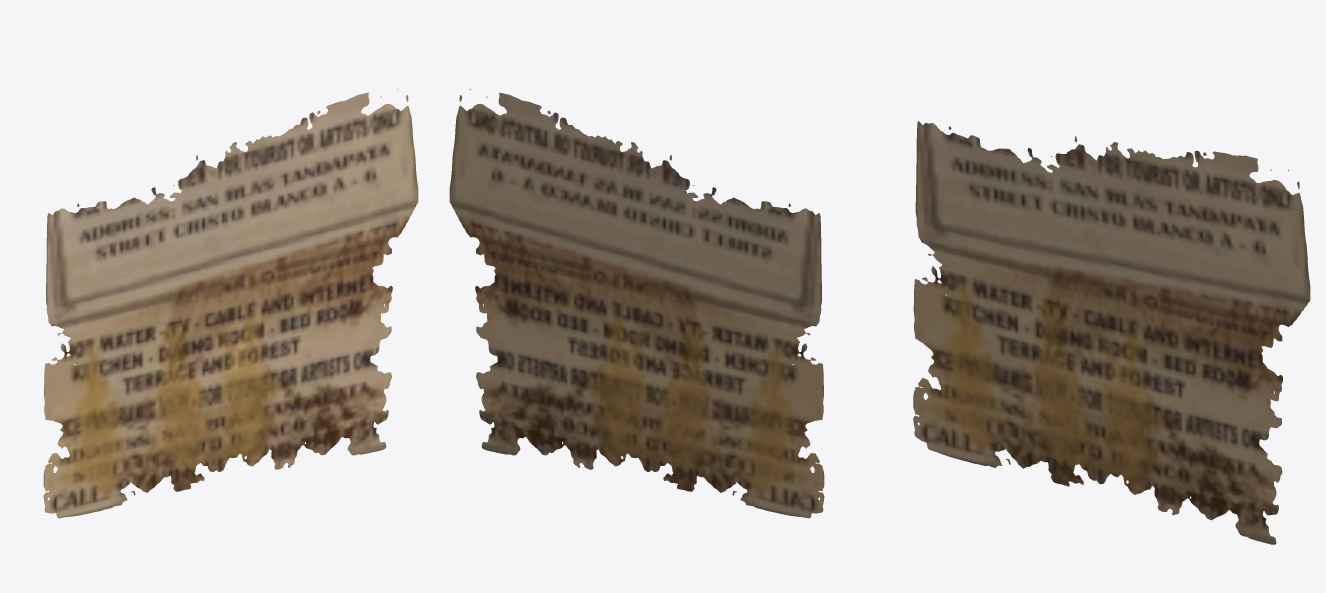
File: Sticker_12.fbx
3 views of the same model, side by side, from view 1: azimuth 30°, elevation 25°; view 2: azimuth 150°, elevation 25°; view 3: azimuth 330°, elevation 25° (orthographic). The views are drawn at different scales.
Visible parts, largest first — view 1: Sticker_12; view 2: Sticker_12; view 3: Sticker_12.
Boxes of the visible parts, box(x1,y1,x2,y2) form: Sticker_12: box(43, 89, 418, 518); Sticker_12: box(449, 89, 824, 518); Sticker_12: box(913, 121, 1310, 544).
Size of the model in its own units: 0.2406 by 0.2663 by 1.16e-08.
